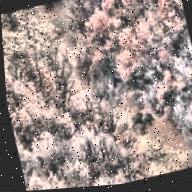boar: (140, 109, 157, 130), (127, 108, 143, 127), (136, 122, 150, 138)
